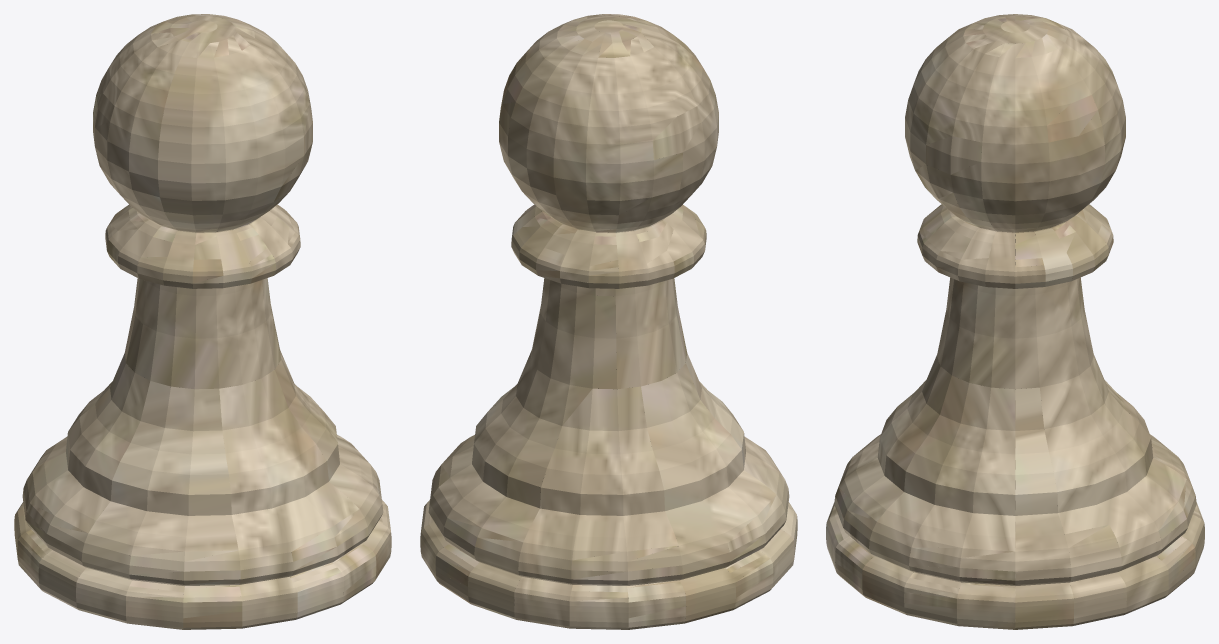
The model's file is pawn_1.obj.
The picture shows the model from 3 angles, left to right: view 1: azimuth 30°, elevation 25°; view 2: azimuth 150°, elevation 25°; view 3: azimuth 270°, elevation 25°; orthographic projection.
Visible parts, largest first — view 1: PEDONE13; view 2: PEDONE13; view 3: PEDONE13.
Boxes of the visible parts, left/top/right/bottom form: PEDONE13: left=14, top=14, right=391, bottom=629; PEDONE13: left=420, top=14, right=797, bottom=629; PEDONE13: left=826, top=14, right=1204, bottom=629.
Bounding box in the file's own units: 68.16 × 105 × 68.15.
1 material, 1 textured.
